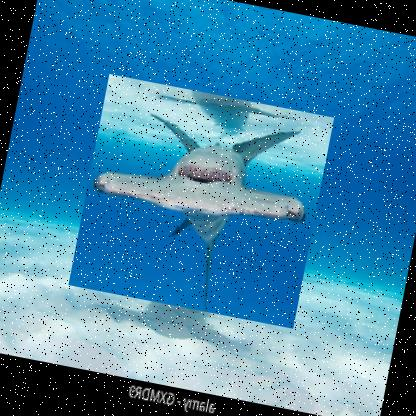hammerhead_Shark: (66, 74, 334, 330)
